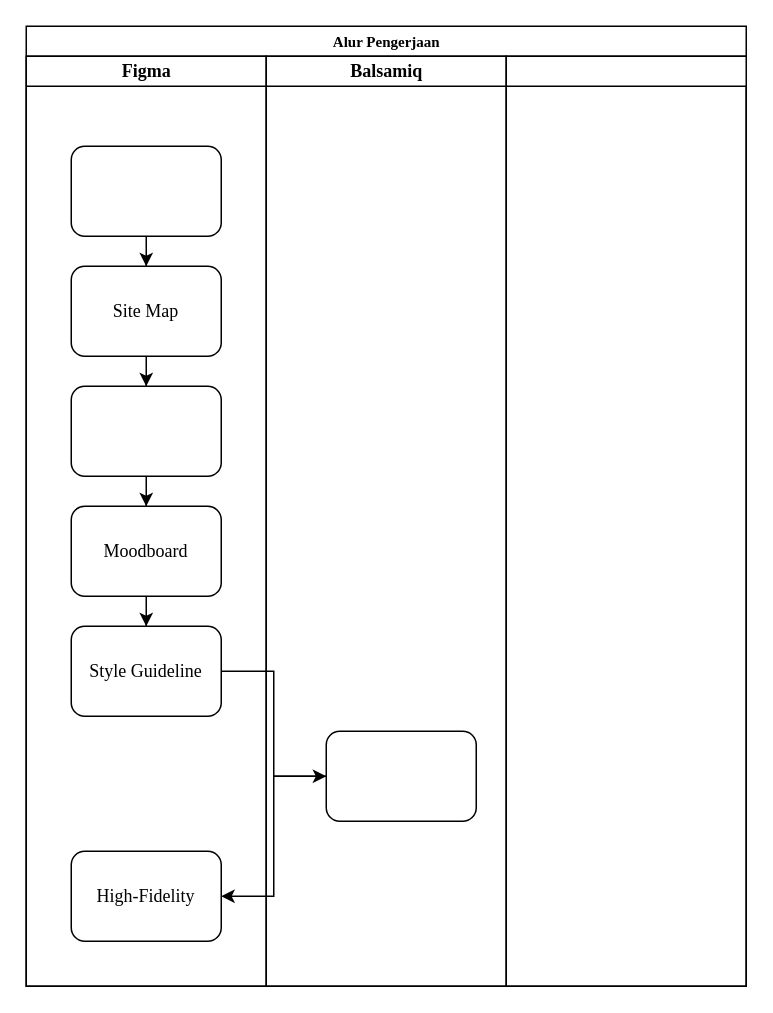
The diagram is 773 pixels wide and 1013 high, and some of its shapes have lost their labels. Each missing label, with the centre of its shape:
"Brainstorming" goes at point 145,190.
"Keterangan" goes at point 625,520.
"Low-Fidelity" goes at point 400,775.
"User Flow" goes at point 145,430.
